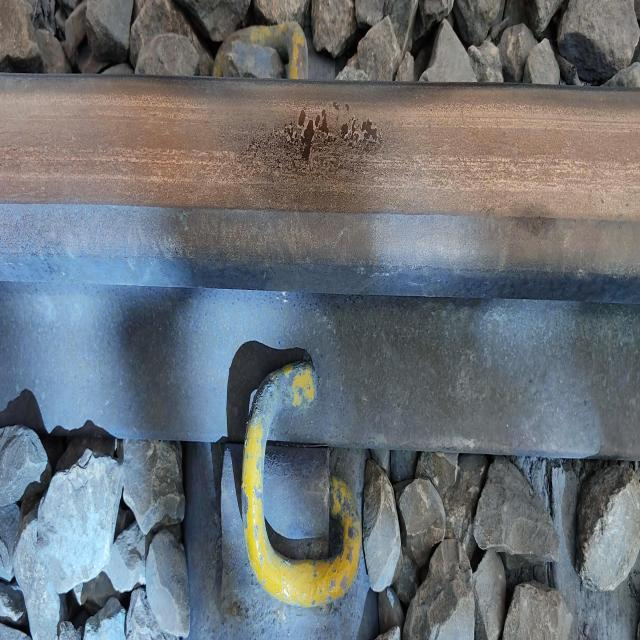Good Fasteners: (220, 361, 376, 638), (213, 22, 308, 79)
